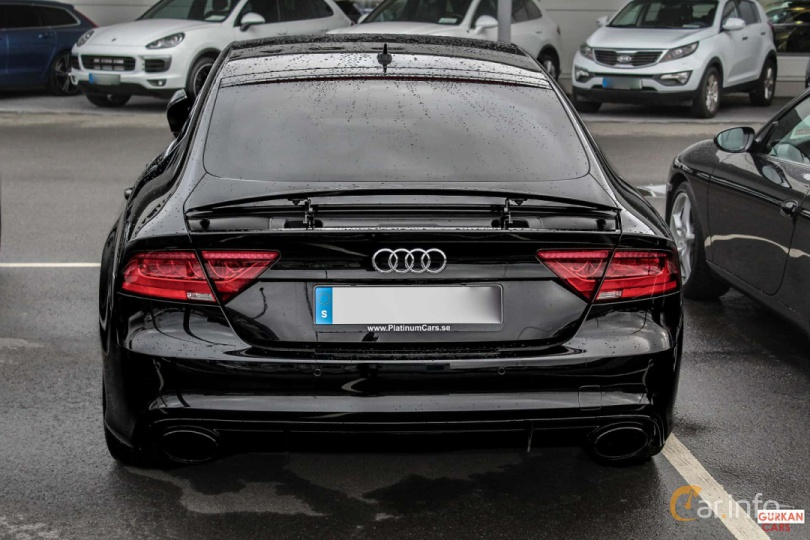audi: (364, 242, 453, 278)
